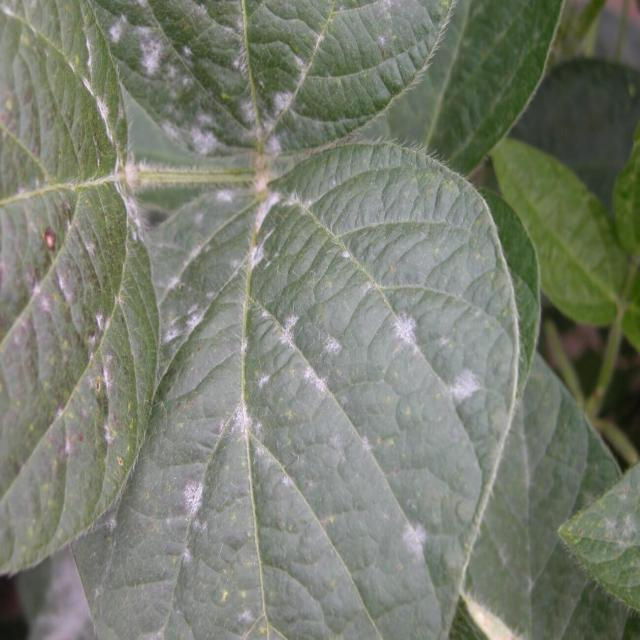Powdery Mildew: (63, 0, 378, 533)
